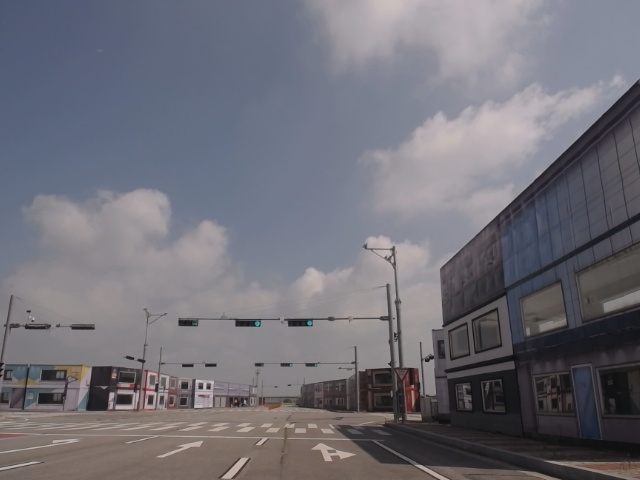straight_green_4: (236, 318, 263, 328), (288, 320, 314, 327)
